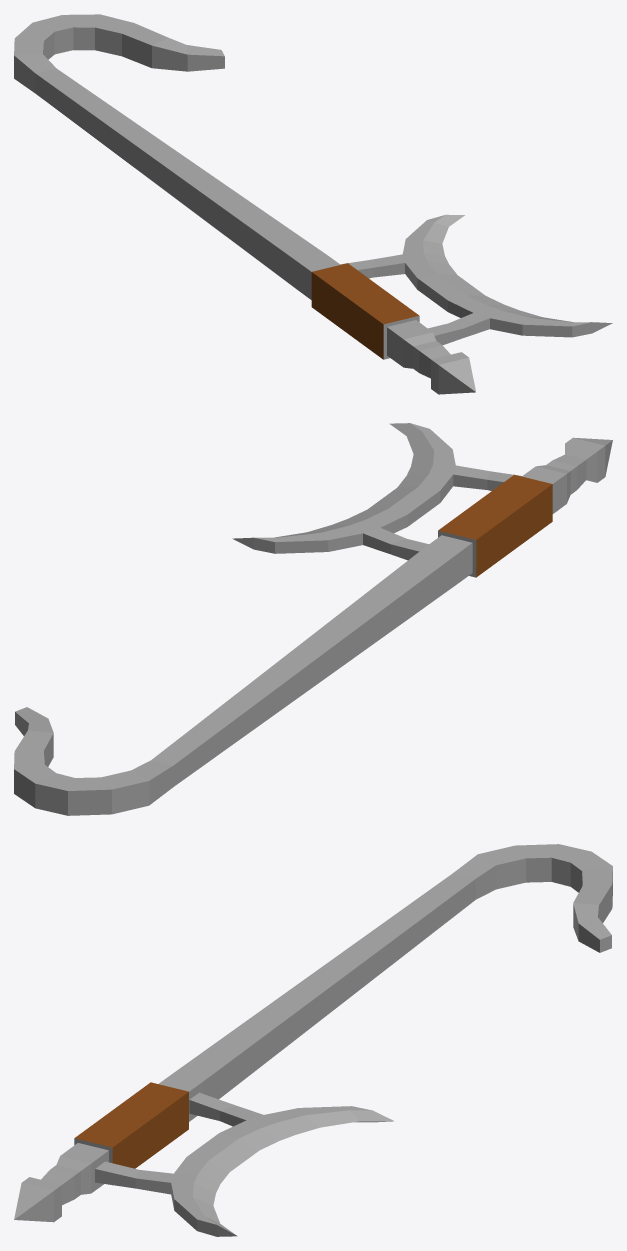
File: Hook Sword - Textured Low Poly Asian Weapon Pack by Kickin It Studios.fbx
3 renders of one model, top to bottom at view 1: azimuth 30°, elevation 25°; view 2: azimuth 150°, elevation 25°; view 3: azimuth 330°, elevation 25°, orthographic. The views are drawn at different scales.
Visible parts, largest first — view 1: Hook Sword; view 2: Hook Sword; view 3: Hook Sword.
Boxes of the visible parts, x1,y1,x2,y2 form: Hook Sword: (14, 14, 612, 394); Hook Sword: (14, 423, 612, 815); Hook Sword: (14, 844, 612, 1236).
Size of the model in its own units: 158 by 27.82 by 681.
